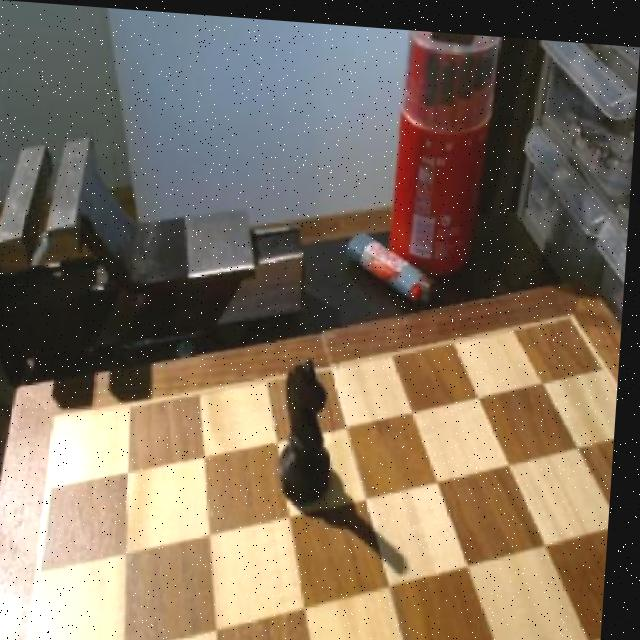black-king: (274, 344, 345, 499)
